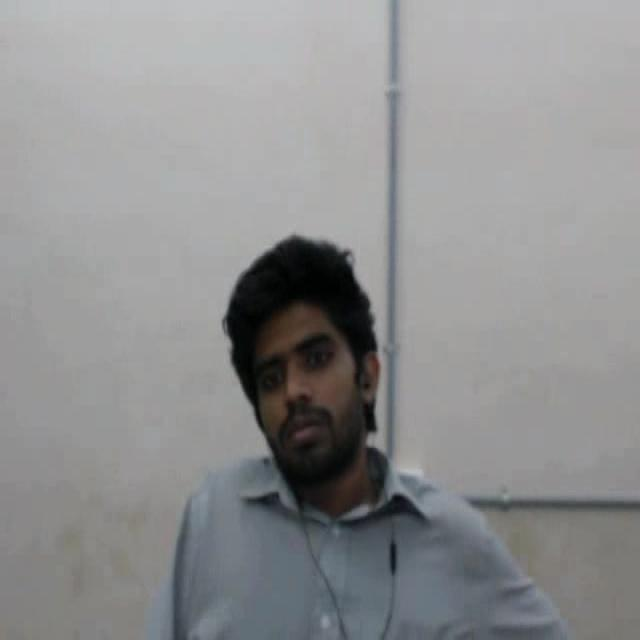Engaged: (200, 204, 415, 535)
